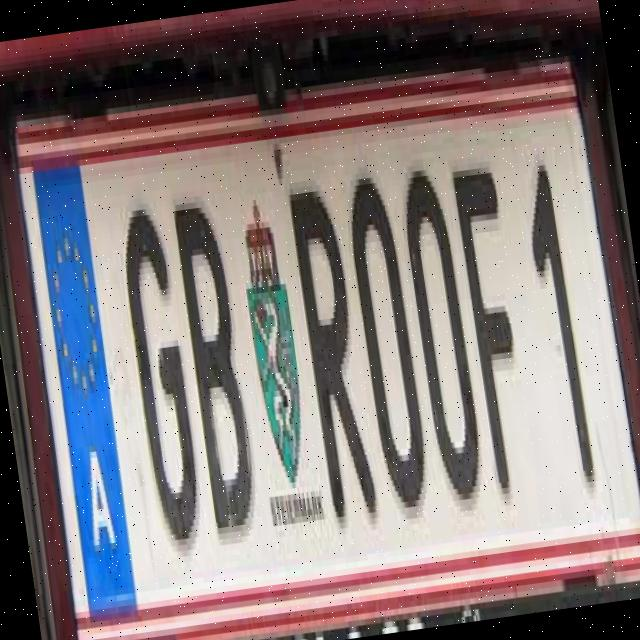Autre: (8, 57, 640, 640)
